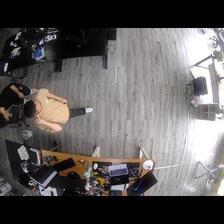normal: (23, 90, 94, 135)
